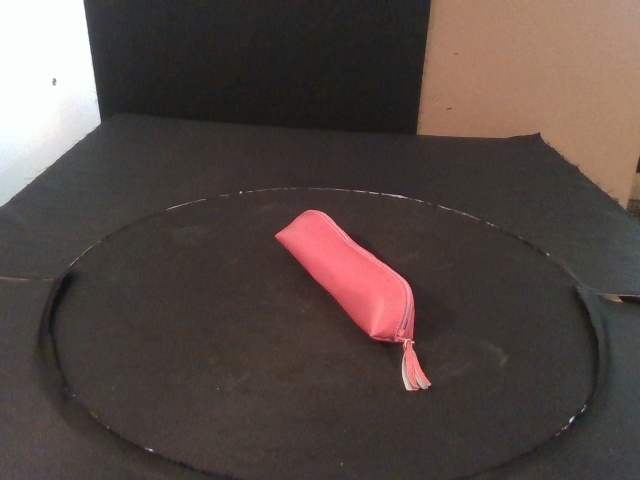pencil_case: (273, 209, 416, 345)
